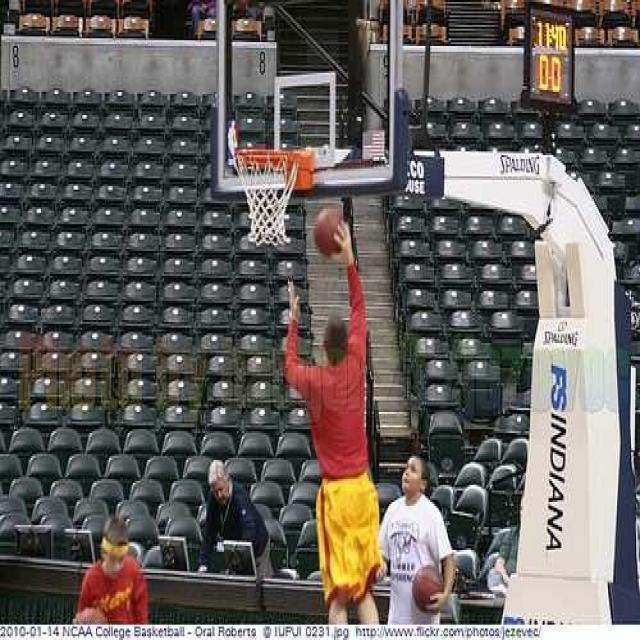Ball: (314, 208, 344, 258), (413, 566, 443, 614), (74, 608, 108, 626)
